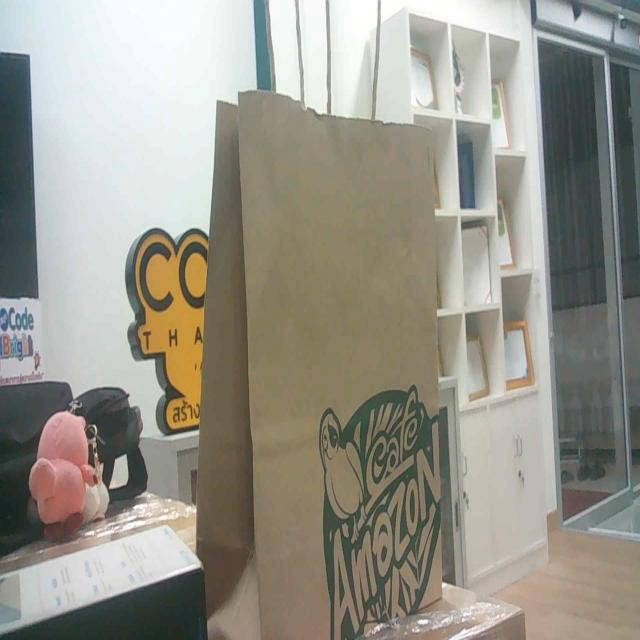bag: (205, 52, 473, 640)
